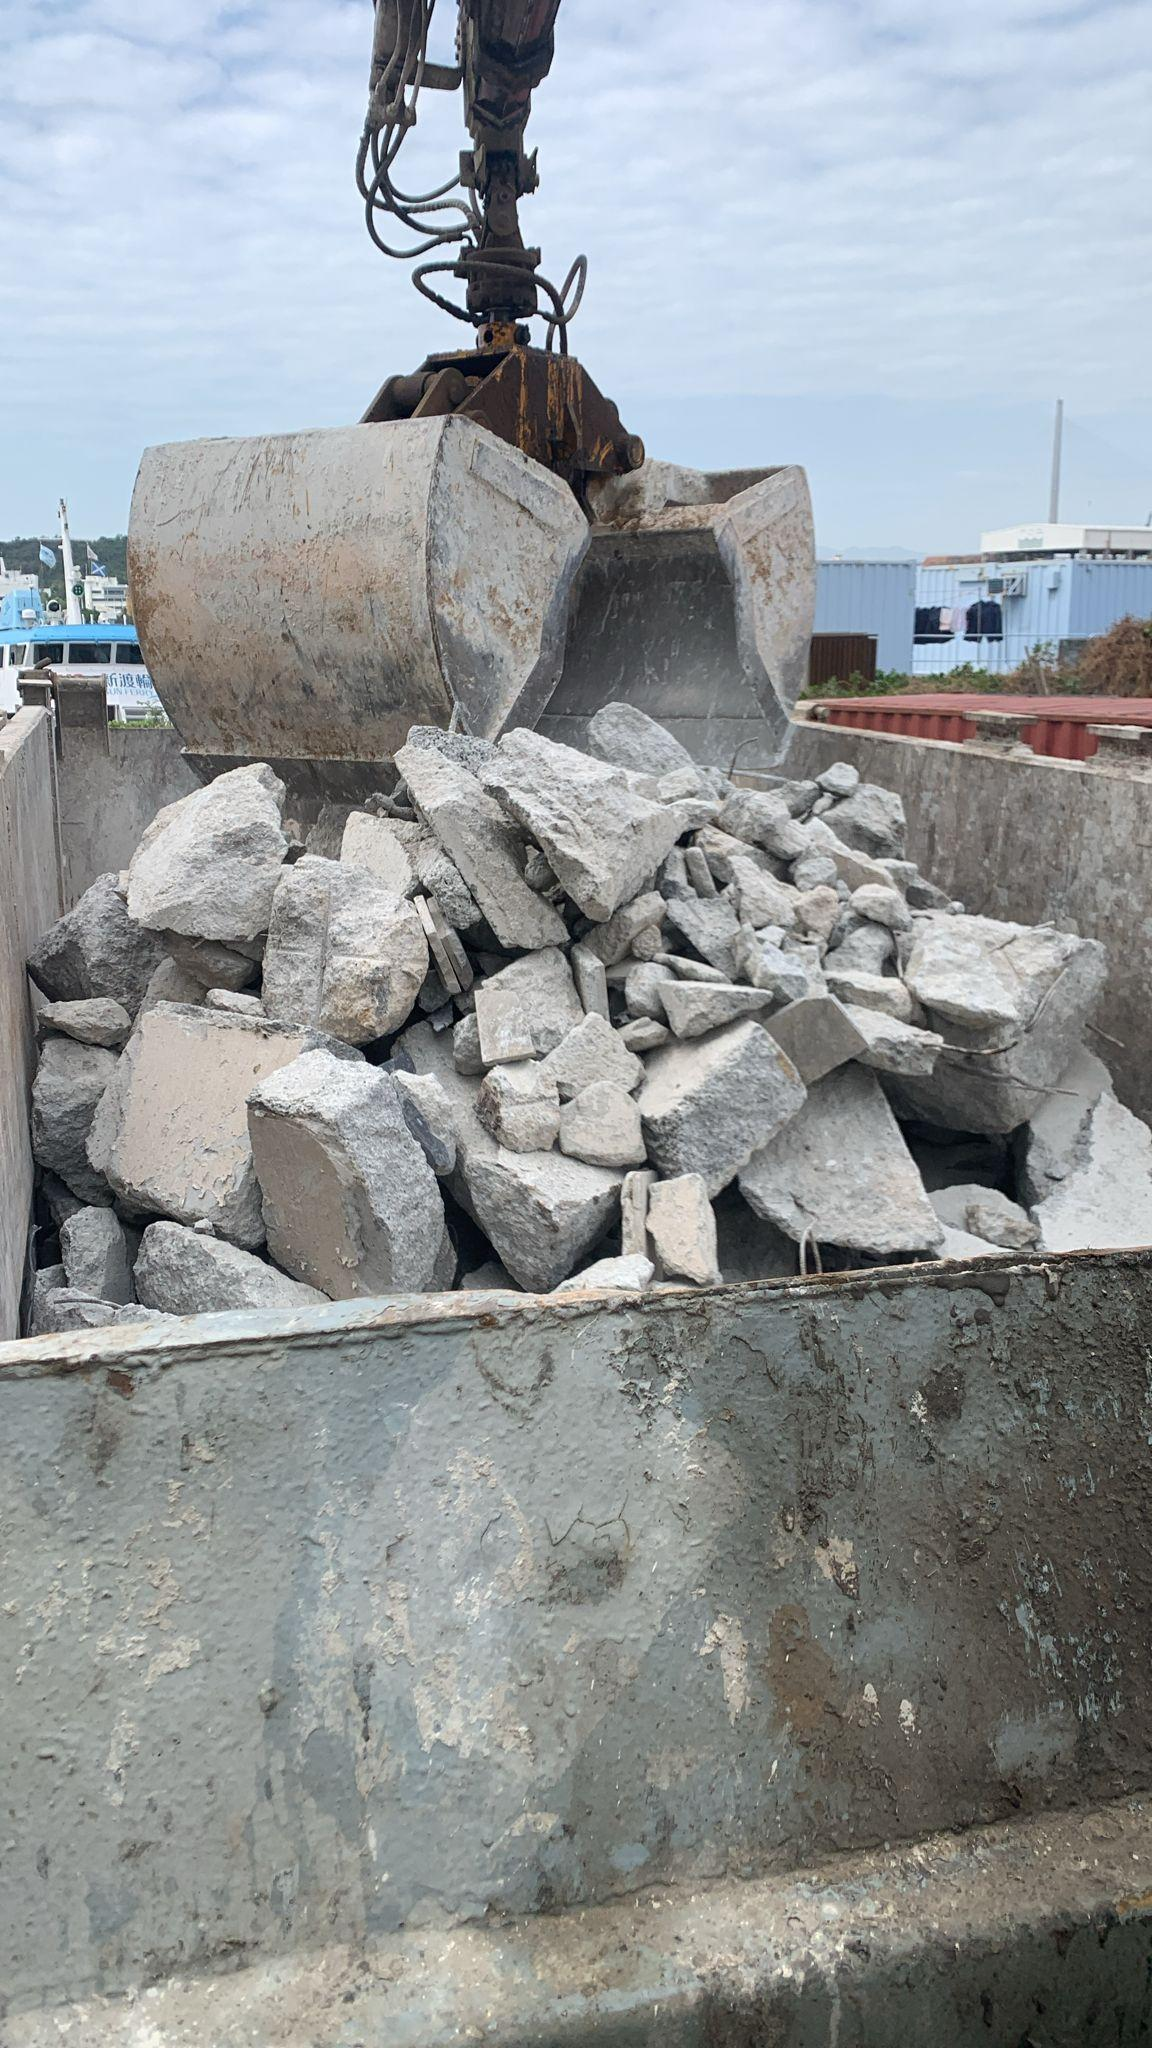dry: (60, 737, 1152, 1340)
